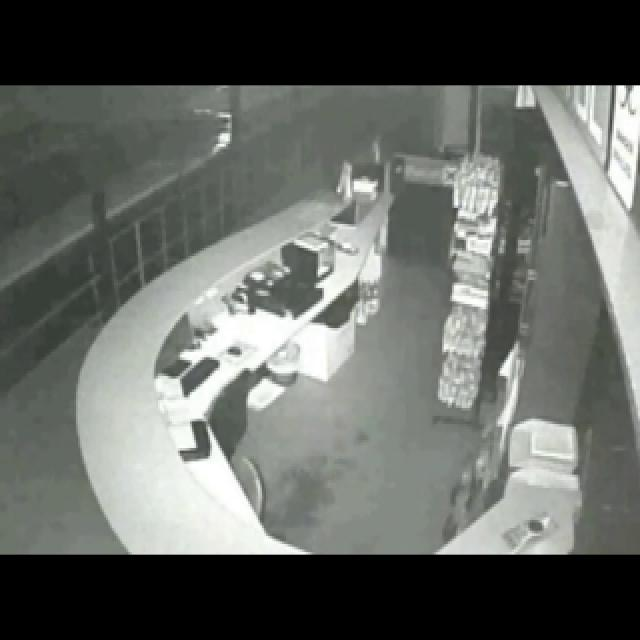arson: (87, 1, 444, 640)
